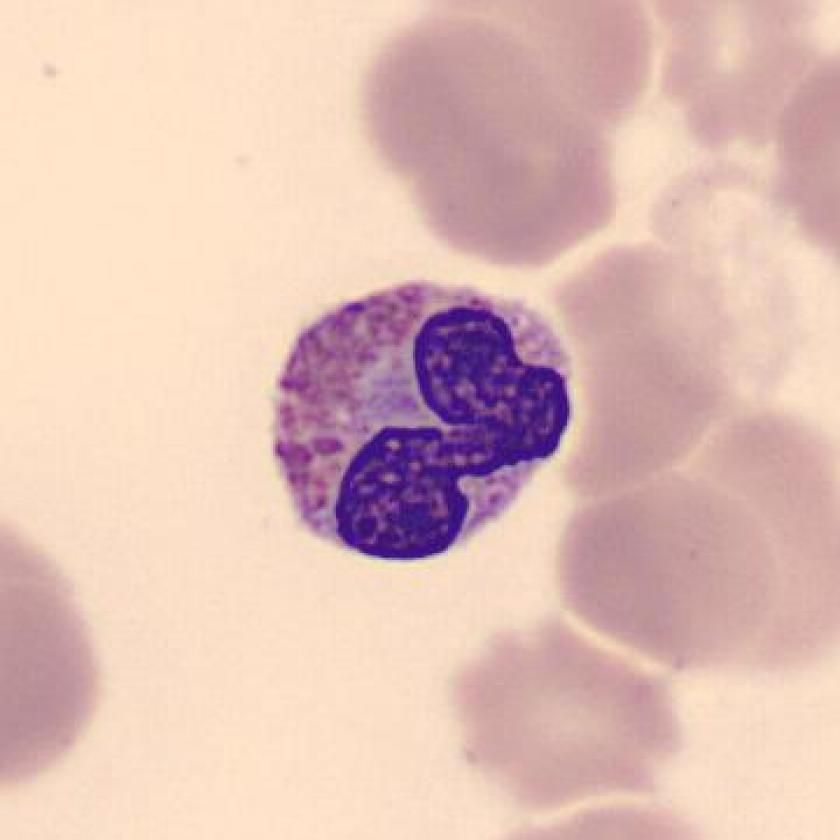eosinophil: (253, 270, 594, 573)
